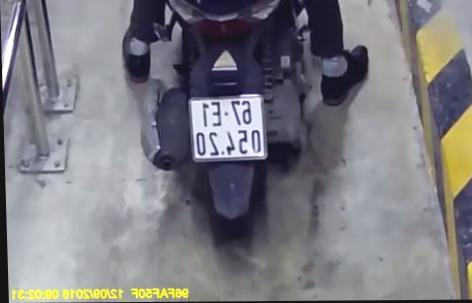License_Plate: (185, 92, 277, 167)
